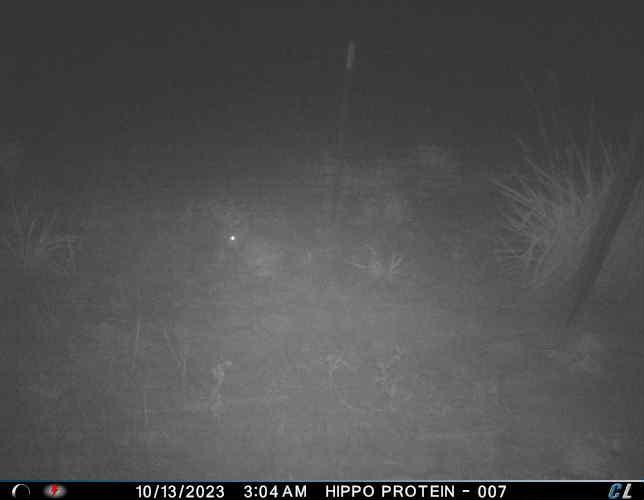Rabbit: (222, 219, 288, 275)
